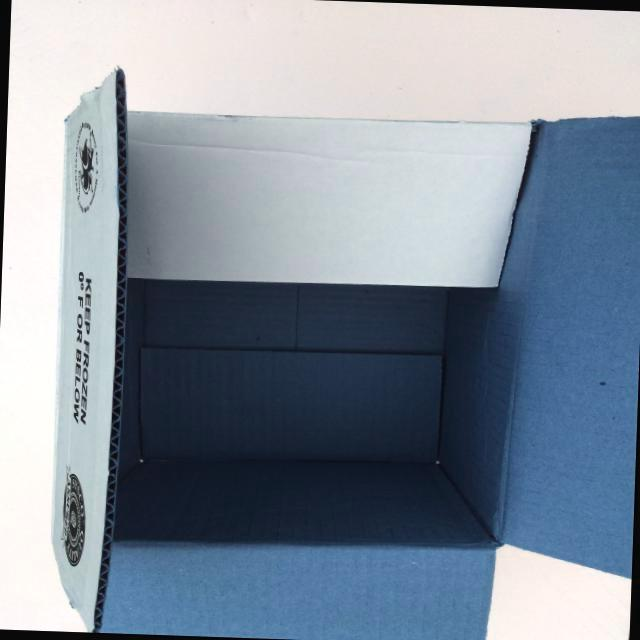cardboard: (24, 65, 640, 640)
